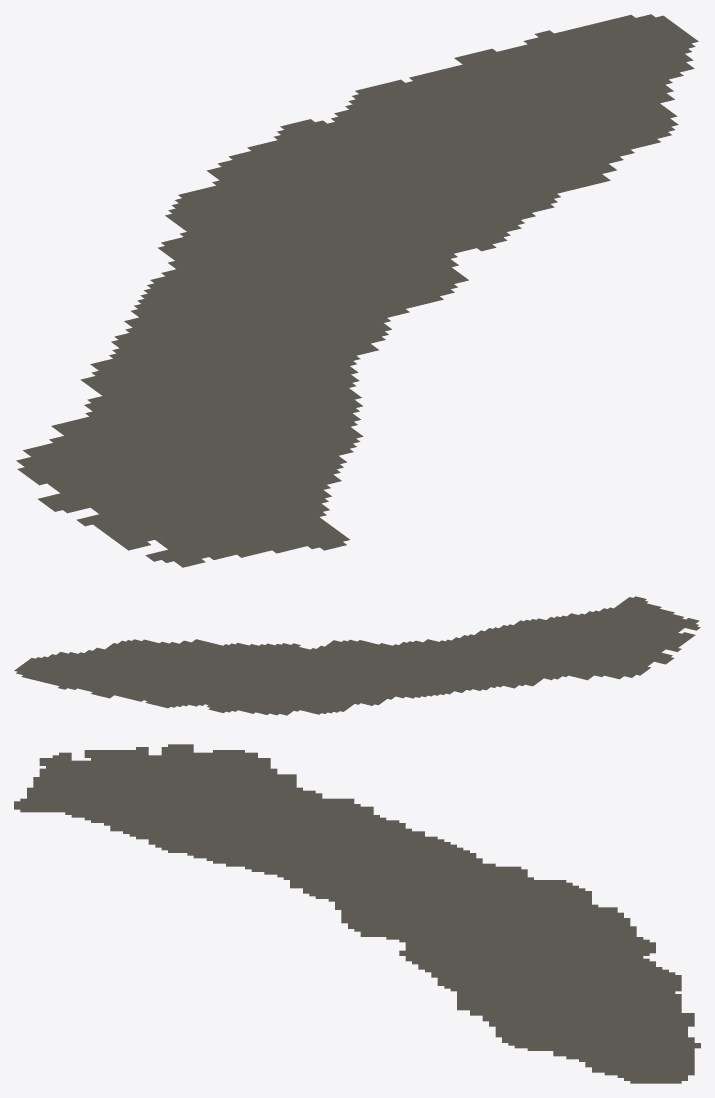
Rendered from Isl-long1-NoBuildArea.fbx.
The picture shows the model from 3 angles, top to bottom: view 1: azimuth 30°, elevation 25°; view 2: azimuth 150°, elevation 25°; view 3: azimuth 270°, elevation 25°; orthographic projection. The views are drawn at different scales.
Visible parts, largest first — view 1: Isl-long1-NoBuildArea; view 2: Isl-long1-NoBuildArea; view 3: Isl-long1-NoBuildArea.
Part boxes in pixels (box(x1,y1,x2,y2)): Isl-long1-NoBuildArea: box(16, 14, 698, 567); Isl-long1-NoBuildArea: box(14, 596, 700, 715); Isl-long1-NoBuildArea: box(14, 744, 700, 1083).
Bounding box in the file's own units: 125 × 0 × 107.
